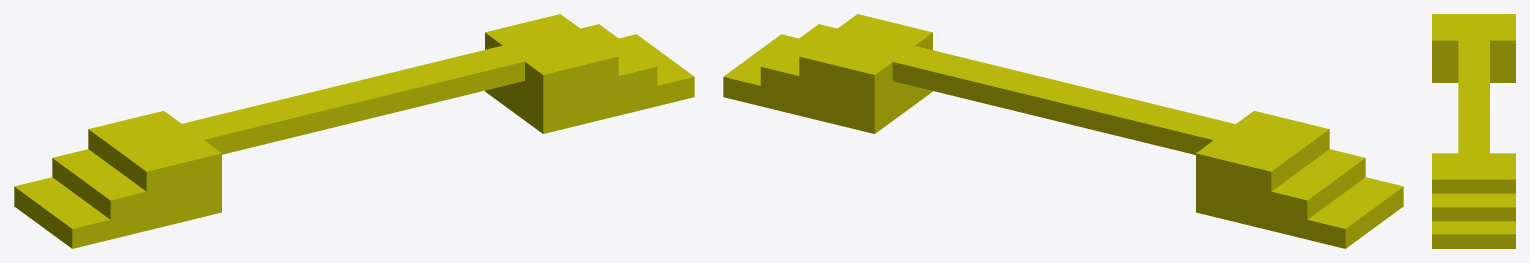
The model's file is beam-30cm_v3.dae.
3 views of the same model, side by side, from view 1: azimuth 30°, elevation 25°; view 2: azimuth 150°, elevation 25°; view 3: azimuth 270°, elevation 25° (orthographic). The views are drawn at different scales.
Parts seen in each view (by area): view 1: node; view 2: node; view 3: node.
Boxes of the visible parts, bbox=[...] form: node: bbox=[14, 14, 694, 248]; node: bbox=[723, 14, 1403, 248]; node: bbox=[1432, 14, 1515, 248].
Size of the model in its own units: 4.91 by 0.795 by 0.445.
